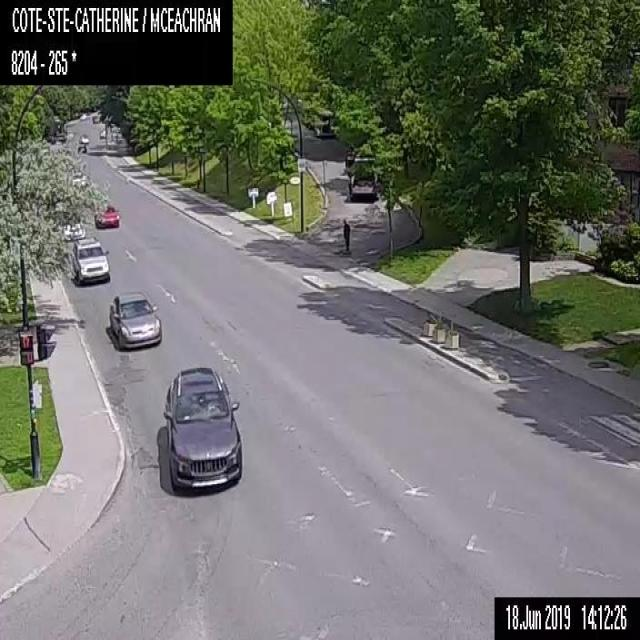pedestrian: (342, 216, 351, 252)
vehicle: (162, 364, 242, 497), (108, 290, 161, 347), (70, 235, 110, 284), (349, 162, 376, 200), (344, 144, 374, 168), (94, 204, 120, 227), (63, 221, 85, 239), (318, 126, 337, 138), (78, 133, 90, 143), (77, 142, 86, 153), (79, 112, 87, 119), (92, 114, 99, 122), (99, 128, 105, 137)
